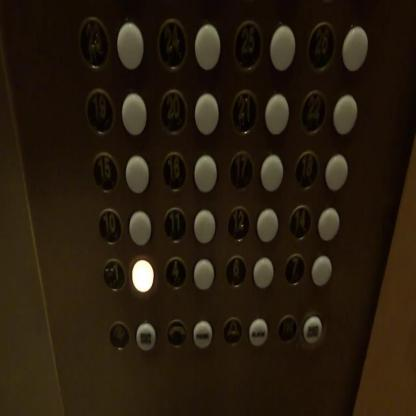10: (97, 207, 123, 246)
11: (164, 207, 189, 244)
12: (227, 204, 250, 242)
14: (288, 204, 312, 242)
15: (91, 151, 119, 193)
16: (161, 152, 188, 192)
17: (227, 148, 255, 192)
18: (294, 150, 320, 192)
19: (86, 89, 115, 139)
20: (158, 90, 188, 134)
21: (230, 89, 258, 136)
22: (300, 89, 326, 138)
23: (77, 16, 110, 72)
24: (157, 19, 187, 71)
25: (234, 18, 262, 74)
26: (306, 22, 335, 70)
4: (164, 255, 188, 292)
6: (225, 254, 247, 289)
7: (283, 252, 306, 285)
alarm: (222, 316, 242, 346)
call: (166, 318, 188, 350)
close: (277, 314, 299, 346)
empty: (116, 19, 144, 72), (341, 24, 368, 73), (121, 88, 147, 137), (194, 23, 220, 71), (270, 25, 295, 72), (194, 92, 218, 136), (333, 94, 358, 135), (265, 92, 289, 134), (124, 154, 149, 194), (260, 152, 284, 192), (323, 153, 348, 191), (128, 209, 152, 246), (192, 208, 216, 244), (194, 154, 216, 192), (317, 207, 340, 243), (130, 259, 154, 292), (256, 208, 279, 242), (310, 254, 333, 286), (192, 258, 214, 290), (253, 255, 273, 289)
open: (109, 321, 130, 351)
s1: (102, 257, 126, 293)
text: (135, 322, 156, 352), (248, 316, 268, 346), (192, 320, 212, 349), (303, 315, 322, 344)
